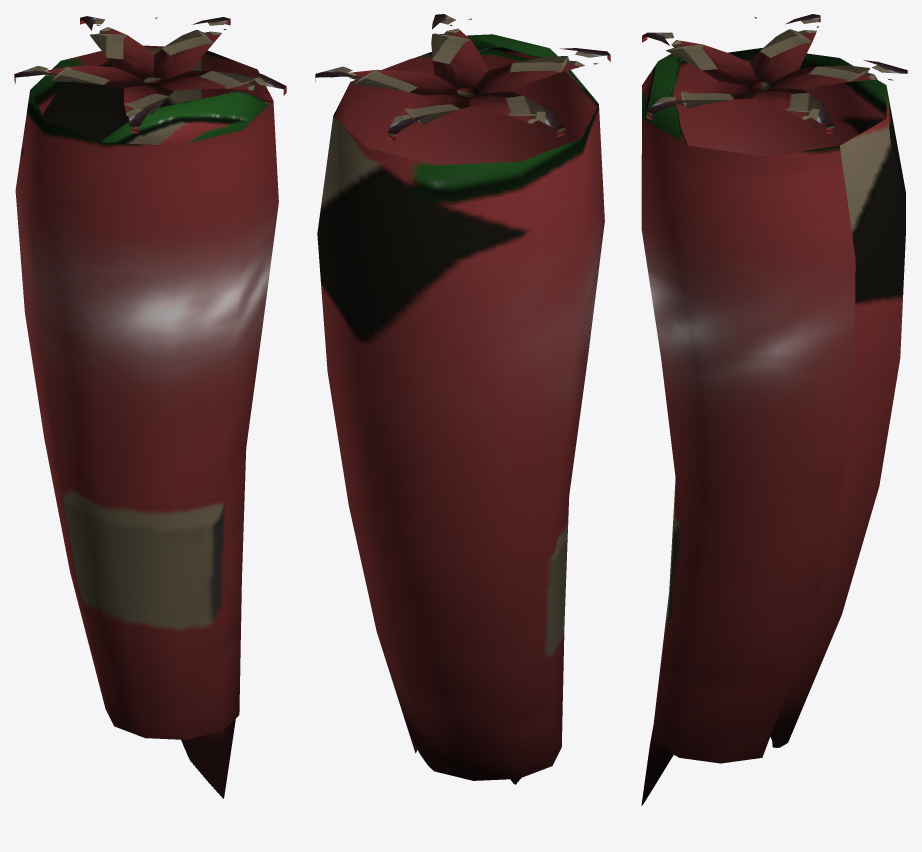
Rendered from Pepper.fbx.
The picture shows the model from 3 angles, left to right: view 1: azimuth 30°, elevation 25°; view 2: azimuth 150°, elevation 25°; view 3: azimuth 270°, elevation 25°; orthographic projection. The views are drawn at different scales.
Parts seen in each view (by area): view 1: Pepper; view 2: Pepper; view 3: Pepper.
Part boxes in pixels (<box>): Pepper: <box>14,16,286,798</box>; Pepper: <box>315,14,610,784</box>; Pepper: <box>641,14,907,805</box>.
Size of the model in its own units: 19.52 by 63.49 by 18.83.
